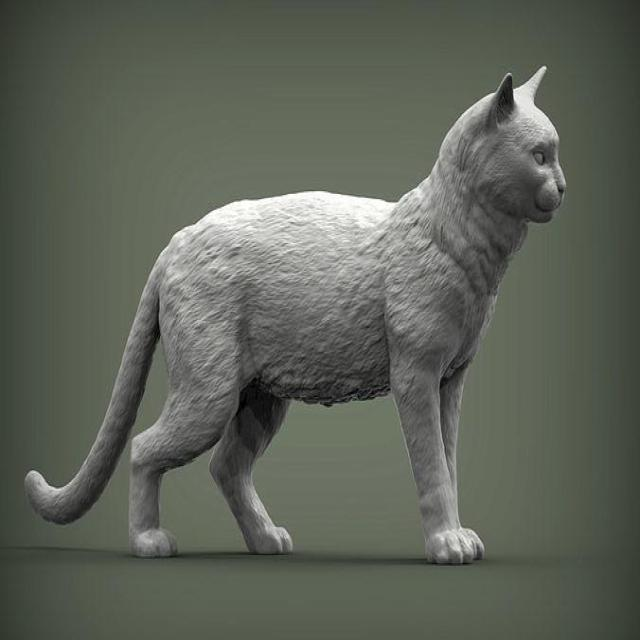Without deffect: (21, 50, 574, 582)
